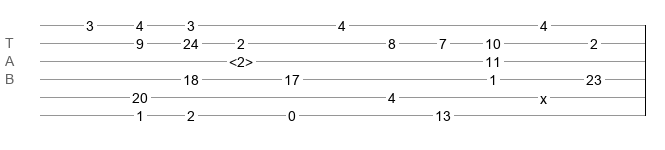0: (288, 108, 296, 118)
1: (136, 108, 144, 118), (489, 72, 497, 82)
10: (485, 36, 501, 46)
11: (485, 54, 501, 64)
13: (435, 108, 451, 118)
17: (284, 72, 300, 82)
18: (183, 72, 199, 82)
2: (187, 108, 195, 118), (237, 36, 245, 46), (590, 36, 598, 46)
20: (132, 90, 148, 100)
23: (586, 72, 602, 82)
24: (183, 36, 199, 46)
3: (86, 18, 94, 28), (187, 18, 195, 28)
4: (136, 18, 144, 28), (338, 18, 346, 28), (388, 90, 396, 100), (540, 18, 548, 28)
7: (439, 36, 447, 46)
8: (388, 36, 396, 46)
9: (136, 36, 144, 46)
harmonic: (229, 54, 253, 64)
x: (540, 91, 547, 99)
